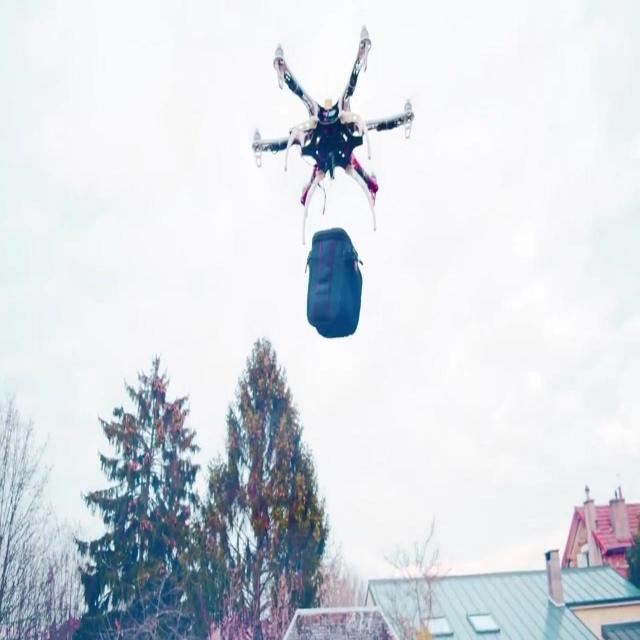drone: (251, 24, 414, 232)
